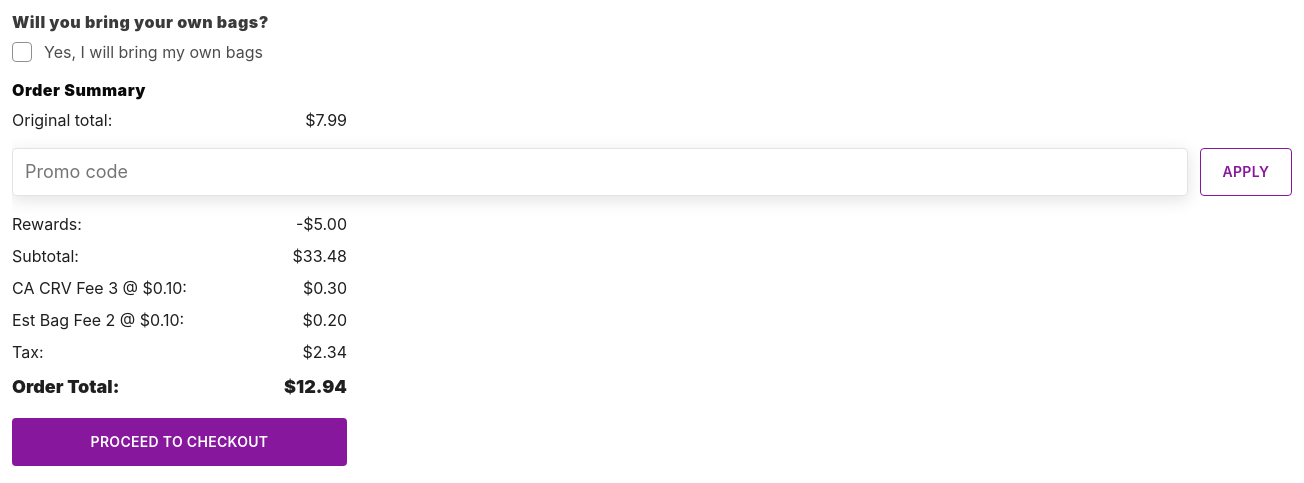
OrderSummary › handles bring own bags checkbox
Click the checkbox labelled "Yes, I will bring my own bags".
click(138, 52)  # box [12,40,263,64]
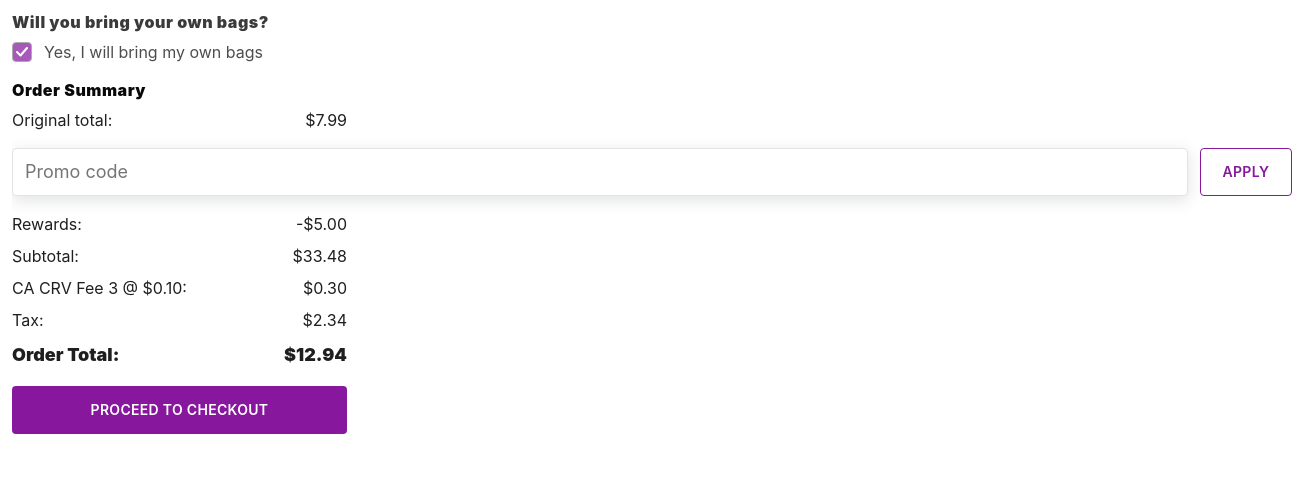
expect the checkbox labelled "Yes, I will bring my own bags" is checked: met, box [12,40,263,64]
expect the text "Est Bag Fee 2 @ $0.10:" is gone: met
